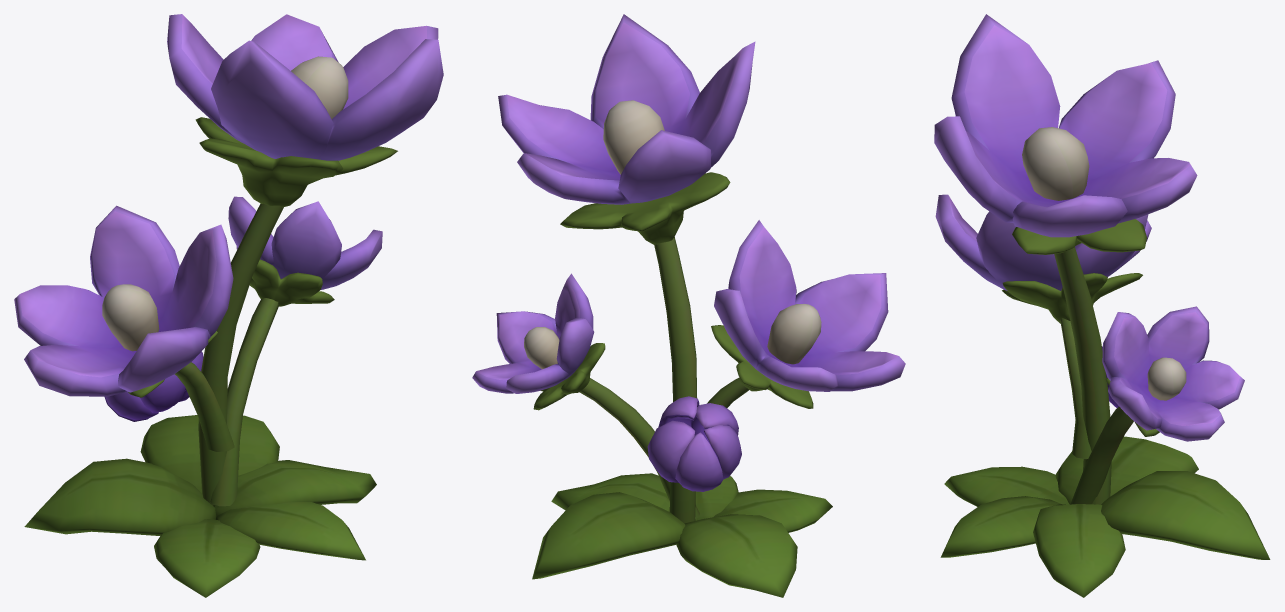
The model's file is NPC_Medicinalherb_001.glb.
3 views of the same model, side by side, from view 1: azimuth 30°, elevation 25°; view 2: azimuth 150°, elevation 25°; view 3: azimuth 270°, elevation 25° (orthographic). The views are drawn at different scales.
Parts seen in each view (by area): view 1: NPC_Medicinalherb_001_mesh; view 2: NPC_Medicinalherb_001_mesh; view 3: NPC_Medicinalherb_001_mesh.
Boxes of the visible parts, left/top/right/bottom form: NPC_Medicinalherb_001_mesh: left=14, top=14, right=443, bottom=597; NPC_Medicinalherb_001_mesh: left=472, top=14, right=905, bottom=597; NPC_Medicinalherb_001_mesh: left=934, top=14, right=1270, bottom=597.
Bounding box in the file's own units: 1.79 × 2.1 × 1.27.
1 material, 1 textured.
